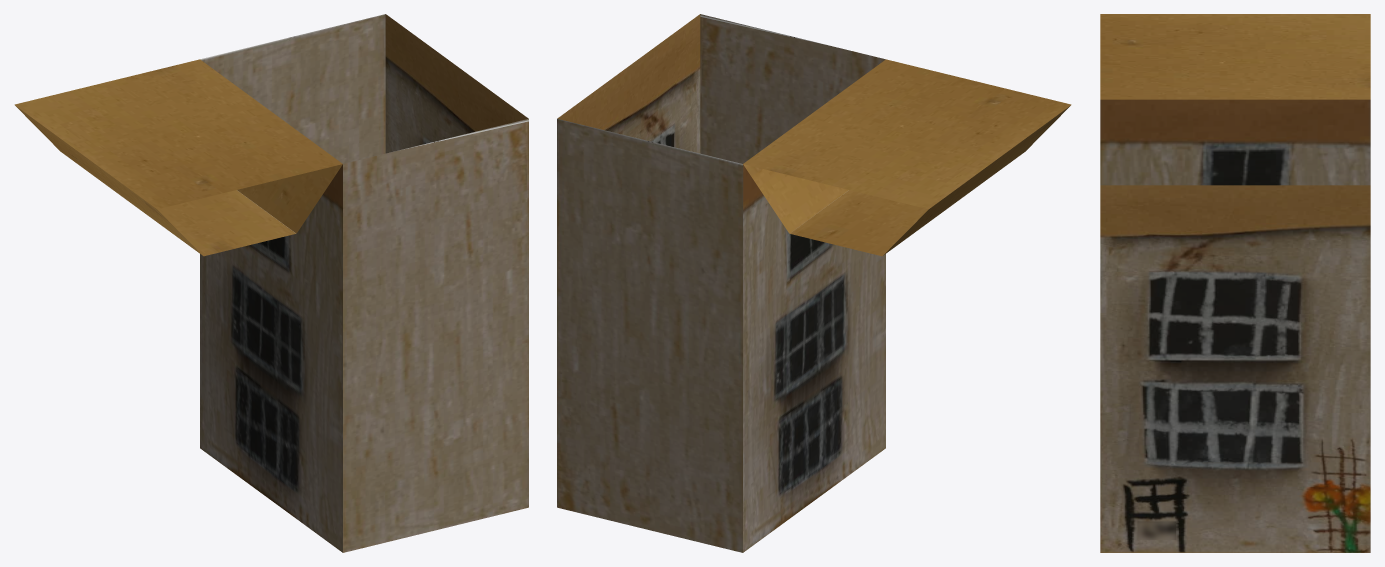
3 renders of one model, left to right at view 1: azimuth 30°, elevation 25°; view 2: azimuth 150°, elevation 25°; view 3: azimuth 270°, elevation 25°, orthographic. The views are drawn at different scales.
Visible parts, largest first — view 1: Cube, Cube.003, Cube.002, Cube.001; view 2: Cube, Cube.003, Cube.002, Cube.001; view 3: Cube, Cube.002, Cube.003.
Part boxes in pixels (<box>): Cube: <box>200,118,528,552</box>; Cube.003: <box>14,59,342,256</box>; Cube.002: <box>200,14,528,163</box>; Cube.001: <box>15,105,202,255</box>; Cube: <box>557,118,885,552</box>; Cube.003: <box>743,59,1071,256</box>; Cube.002: <box>557,14,885,163</box>; Cube.001: <box>883,105,1070,255</box>; Cube: <box>1100,185,1370,552</box>; Cube.002: <box>1100,99,1370,185</box>; Cube.003: <box>1100,14,1370,99</box>.
Size of the model in its own units: 15 by 15 by 10.
Materials: 1 (1 with a texture image).
